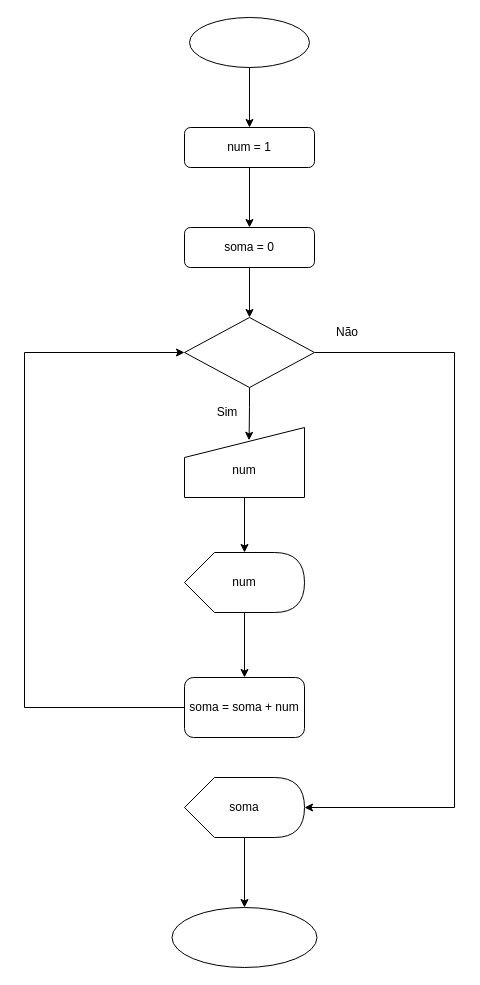
The diagram is 480 pixels wide and 985 high, and some of its shapes have lost their labels. The centre of each missing label's shape, as x and y in pixels:
"Fim" goes at (244,937).
"Início" goes at (249,42).
"num > 0" goes at (249,352).
